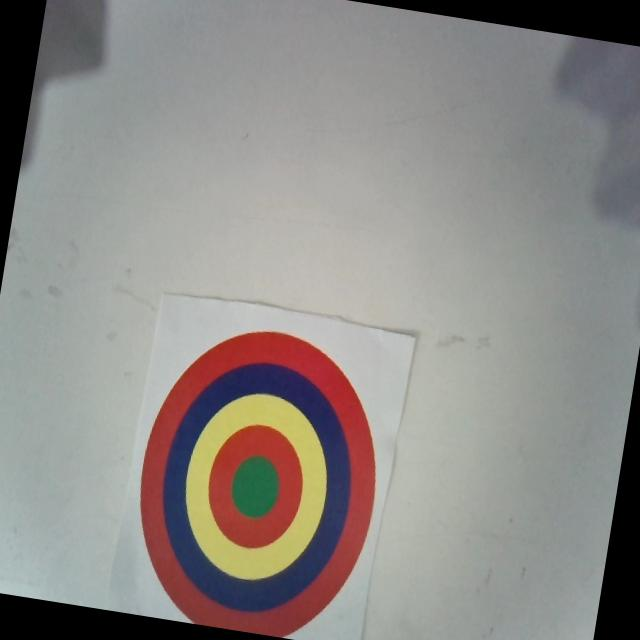cogn: (120, 311, 399, 640)
